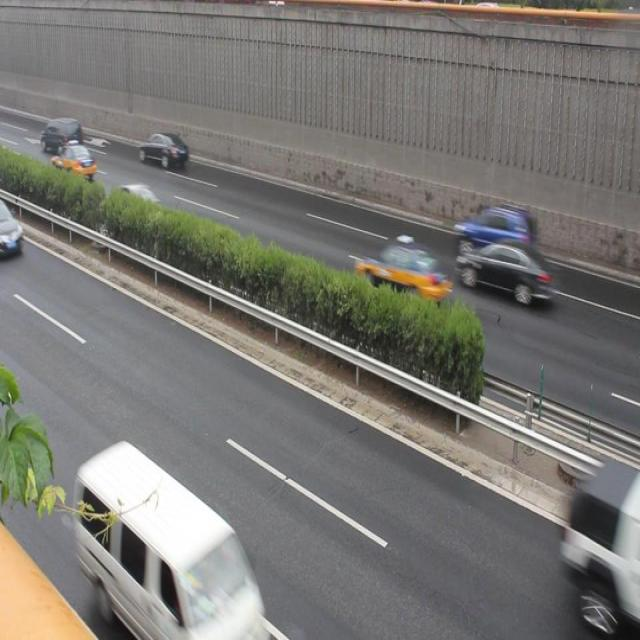car: (563, 464, 640, 619), (455, 240, 554, 311), (356, 241, 448, 307), (457, 202, 534, 260), (102, 182, 162, 233), (137, 130, 188, 170), (51, 142, 96, 180)
truck: (73, 436, 269, 640)
